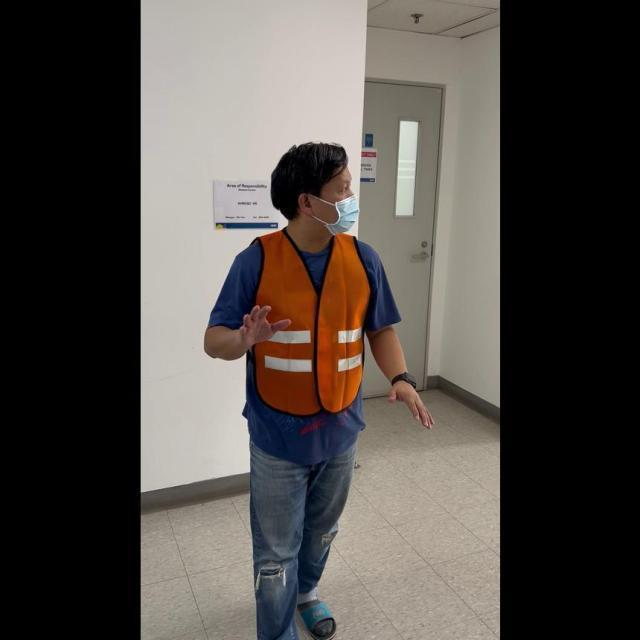bare_hand: (233, 296, 289, 353), (385, 377, 434, 429)
